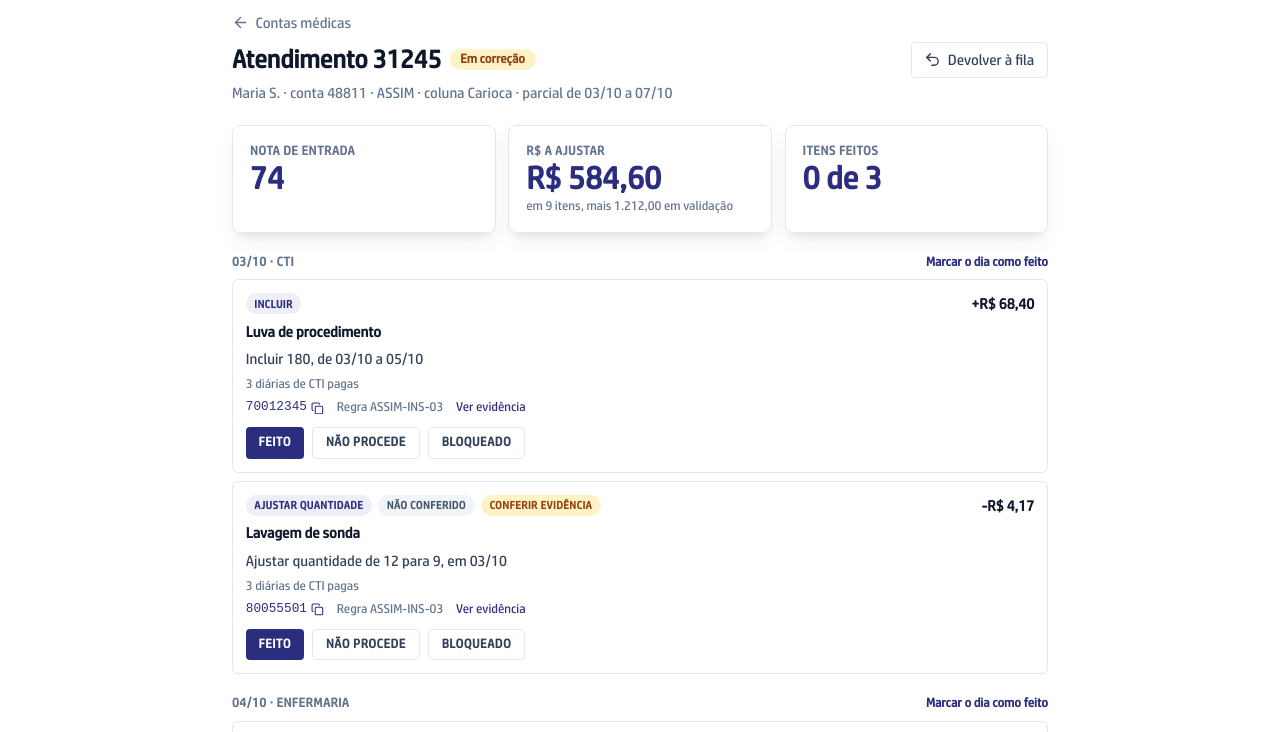
it: o botão Devolver à fila (issue #1309) › confirmando, devolve a conta e volta para a tela de contas
The width and height of the screenshot is (1280, 732).
Expected: the heading "Atendimento 31245" is shown, top-left (232, 43), bottom-right (441, 77)
Click the button "Devolver à fila" at (979, 60), box top-left (911, 42), bottom-right (1048, 78)
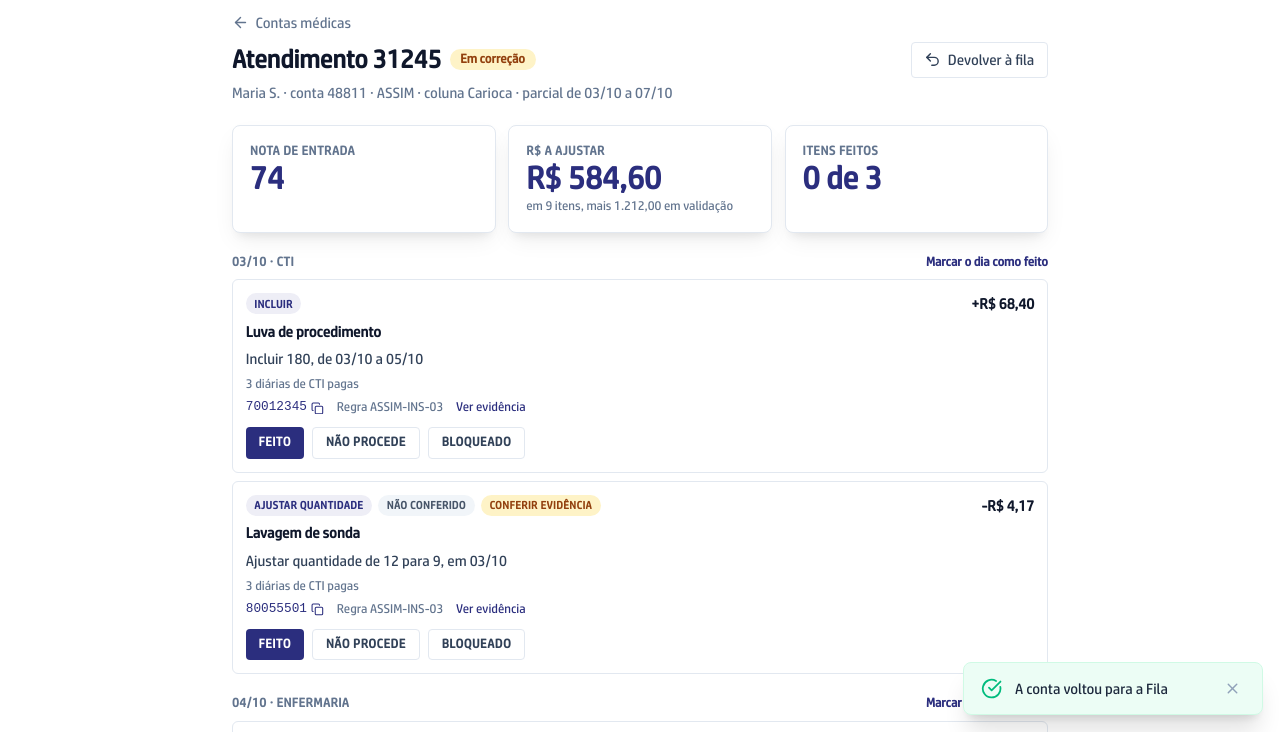
Now the text "A conta voltou para a Fila" is shown, box top-left (1015, 680), bottom-right (1168, 697)
